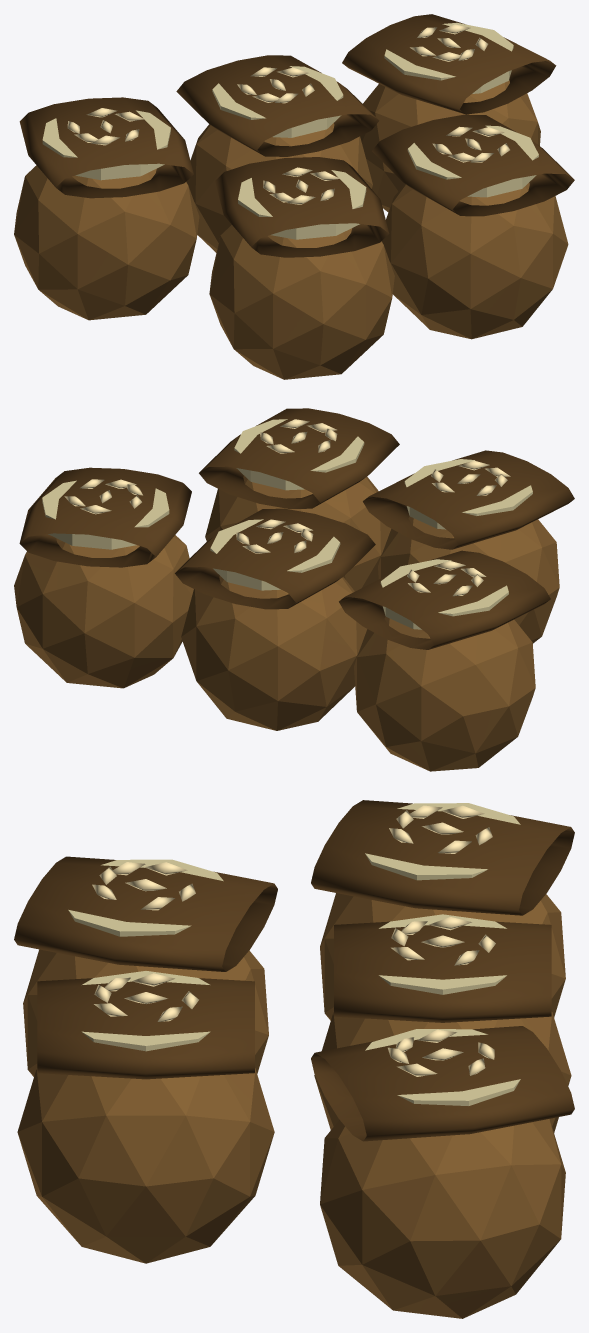
Rendered from pile-milledRice-5.obj.
The picture shows the model from 3 angles, top to bottom: view 1: azimuth 30°, elevation 25°; view 2: azimuth 150°, elevation 25°; view 3: azimuth 270°, elevation 25°; orthographic projection. The views are drawn at different scales.
Parts seen in each view (by area): view 1: pile-milledRice-5; view 2: pile-milledRice-5; view 3: pile-milledRice-5.
Part boxes in pixels (x1,y1,x2,y2): pile-milledRice-5: (14, 14, 574, 379); pile-milledRice-5: (14, 408, 574, 771); pile-milledRice-5: (14, 800, 574, 1318).
Bounding box in the file's own units: 0.7915 × 0.2915 × 0.567.
1 material, 1 textured.
